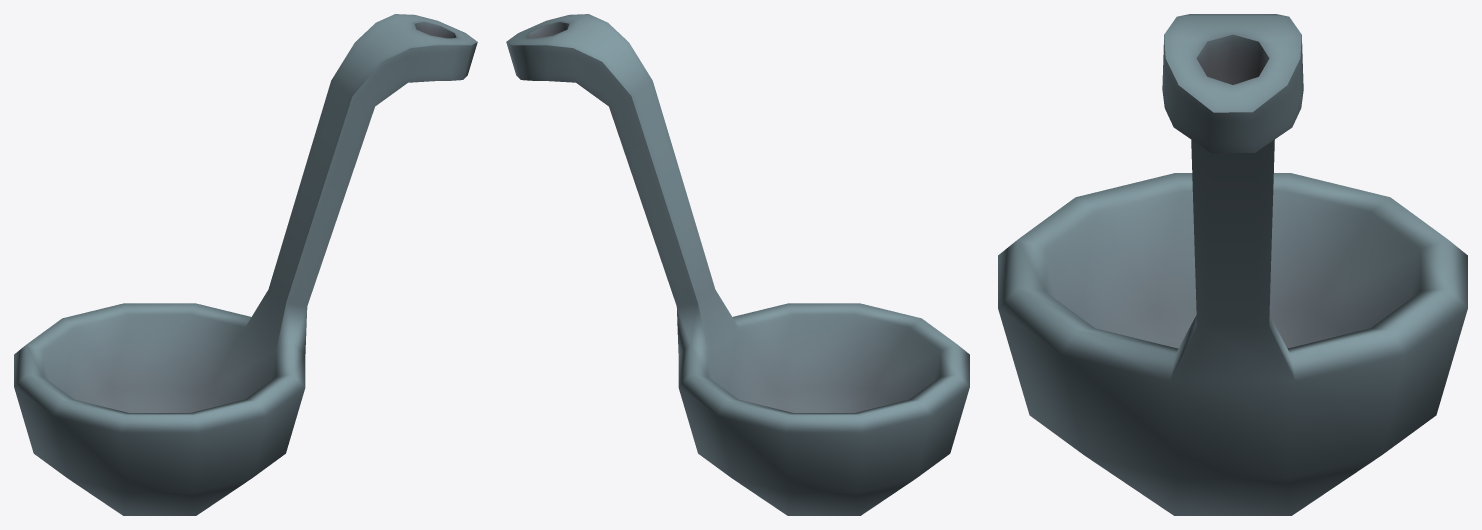
The model's file is ladle_01.fbx.
3 views of the same model, side by side, from view 1: azimuth 30°, elevation 25°; view 2: azimuth 150°, elevation 25°; view 3: azimuth 270°, elevation 25° (orthographic). The views are drawn at different scales.
Visible parts, largest first — view 1: ladle_01_ready; view 2: ladle_01_ready; view 3: ladle_01_ready.
Part boxes in pixels (left/top/right/bottom): ladle_01_ready: left=14, top=14, right=477, bottom=515; ladle_01_ready: left=506, top=14, right=969, bottom=515; ladle_01_ready: left=998, top=14, right=1467, bottom=515.
Size of the model in its own units: 36.95 by 33.17 by 21.28.
